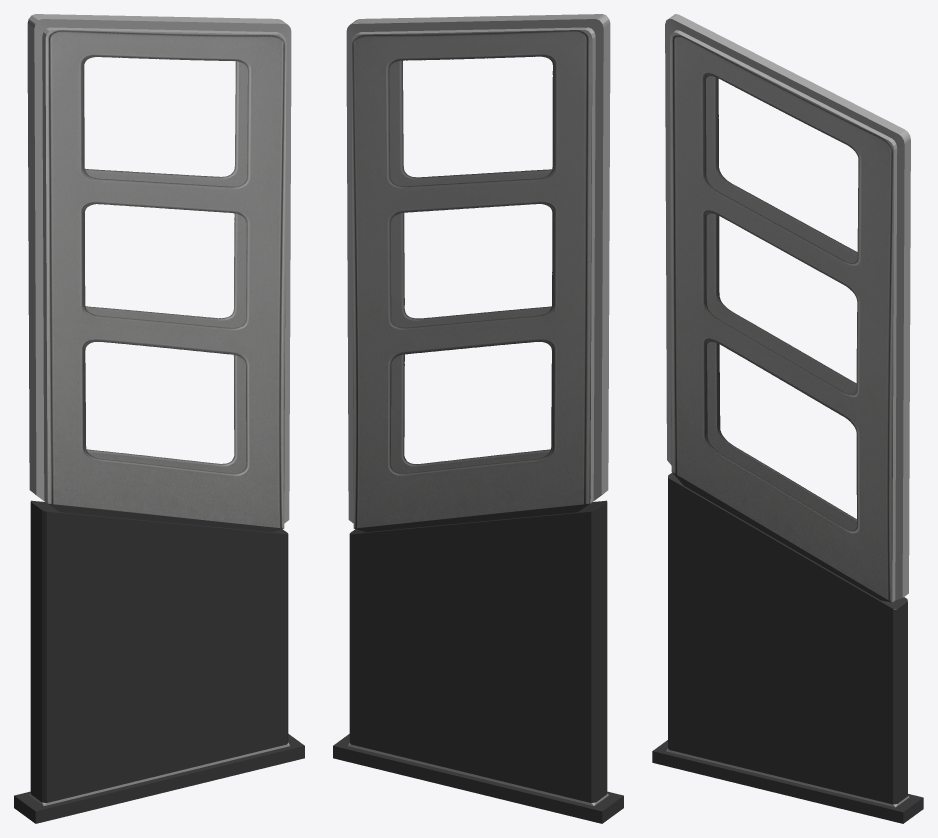
File: security alarm.fbx
3 renders of one model, left to right at view 1: azimuth 30°, elevation 25°; view 2: azimuth 150°, elevation 25°; view 3: azimuth 330°, elevation 25°, orthographic. The views are drawn at different scales.
Parts seen in each view (by area): view 1: pCube94; view 2: pCube94; view 3: pCube94.
Boxes of the visible parts, <box> form: pCube94: <box>14,14,304,823</box>; pCube94: <box>333,14,623,823</box>; pCube94: <box>652,14,923,823</box>.
Bounding box in the file's own units: 2.79 × 7.87 × 0.3892.
4 materials, 1 textured.
